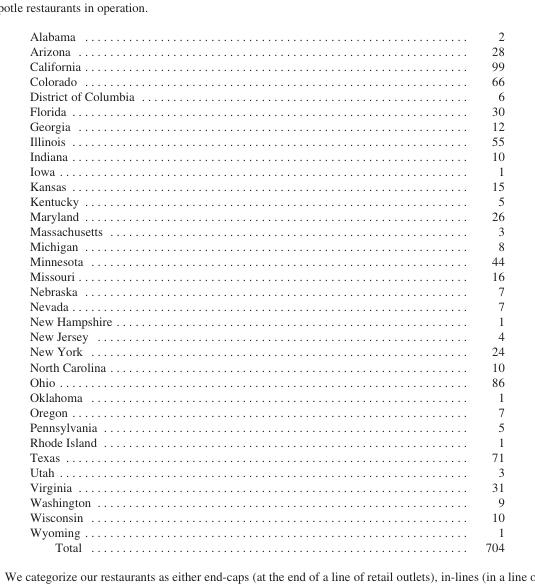table: (28, 28, 503, 553)
table column: (28, 28, 309, 553), (309, 28, 503, 553)
table row: (28, 523, 503, 539), (28, 28, 503, 43), (28, 43, 503, 58), (28, 58, 503, 73), (28, 73, 503, 88), (28, 88, 503, 103), (28, 103, 503, 118), (28, 118, 503, 133), (28, 133, 503, 148), (28, 148, 503, 163), (28, 163, 503, 178), (28, 178, 503, 193), (28, 193, 503, 208), (28, 208, 503, 223), (28, 223, 503, 238), (28, 238, 503, 253), (28, 253, 503, 268), (28, 268, 503, 283), (28, 283, 503, 298), (28, 298, 503, 313), (28, 313, 503, 328), (28, 328, 503, 343), (28, 343, 503, 358), (28, 358, 503, 373), (28, 373, 503, 388), (28, 388, 503, 403), (28, 403, 503, 418), (28, 418, 503, 433), (28, 433, 503, 448), (28, 448, 503, 463), (28, 463, 503, 478), (28, 478, 503, 493), (28, 493, 503, 508), (28, 508, 503, 523), (28, 539, 503, 553)
